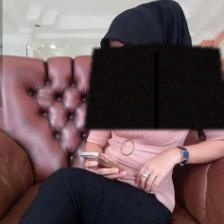Cadar_Niqab: (84, 0, 224, 129)
